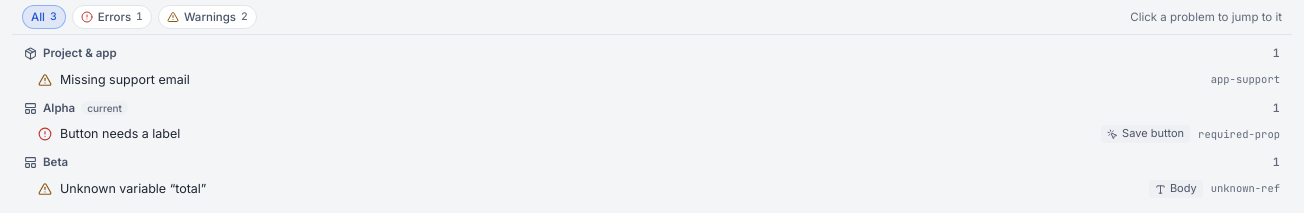
<ProblemsPanel> › groups problems by extension with counts and navigates on click
Check: the button "All 3" is shown, box [22, 5, 66, 29]
Check: the button "Errors 1" is shown, box [72, 5, 152, 29]
Click the text "Unknown variable “total”" at (133,188), box [60, 181, 206, 196]
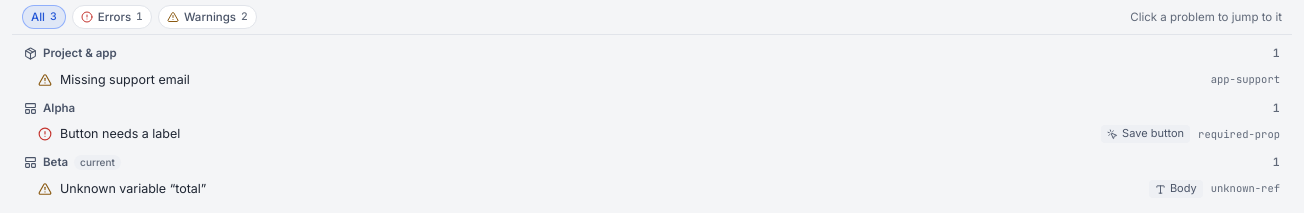
Click the button "Errors 1" at (112,17), box [72, 5, 152, 29]
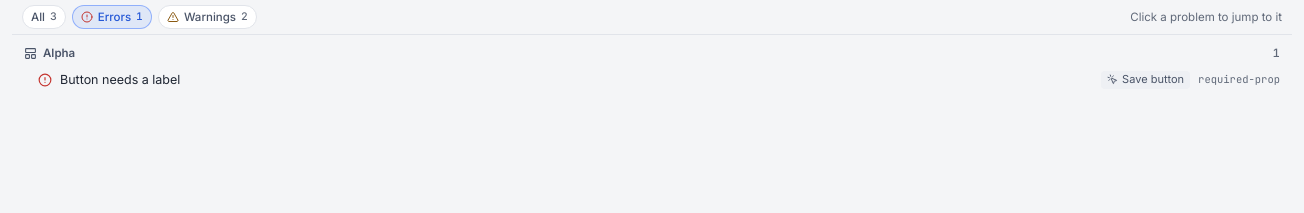
Check: the text "Button needs a label" is shown, box [60, 72, 180, 87]
Check: the button "Unknown variable “total”" is gone
